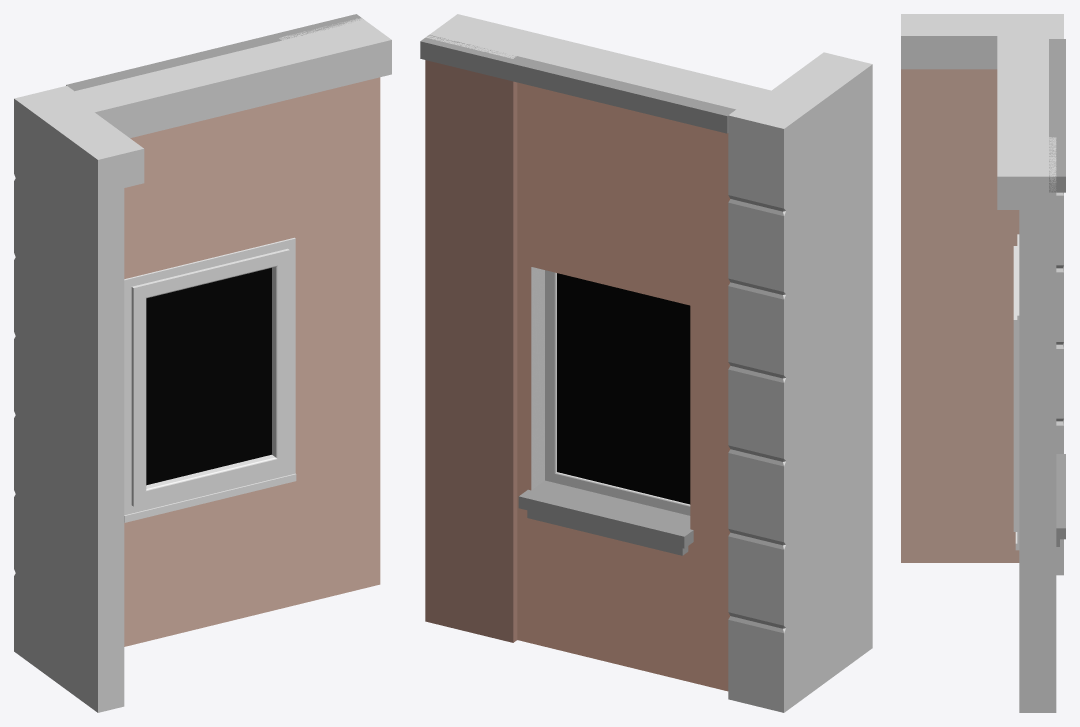
The model's file is EntranceWall_Window_Top_Corner.fbx.
The picture shows the model from 3 angles, left to right: view 1: azimuth 30°, elevation 25°; view 2: azimuth 150°, elevation 25°; view 3: azimuth 270°, elevation 25°; orthographic projection. The views are drawn at different scales.
Parts seen in each view (by area): view 1: EntranceWall_Window_Top_Corner; view 2: EntranceWall_Window_Top_Corner; view 3: EntranceWall_Window_Top_Corner.
Boxes of the visible parts, box(x1,y1,x2,y2) form: EntranceWall_Window_Top_Corner: box(14, 14, 391, 712); EntranceWall_Window_Top_Corner: box(420, 14, 872, 712); EntranceWall_Window_Top_Corner: box(901, 14, 1065, 712).
Size of the model in its own units: 2.6 by 4 by 1.11.
